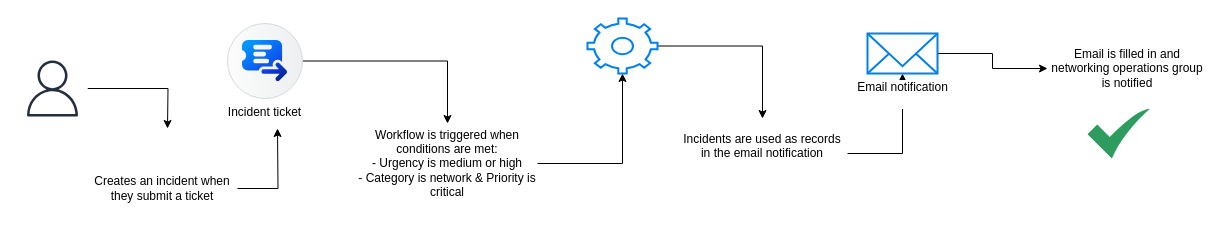
Image size: 1225x245. Some labels were removed from this diagram. Each missing label, with the box of its shape:
Incident workflow: (586, 17, 658, 74)
User: (16, 52, 88, 124)
